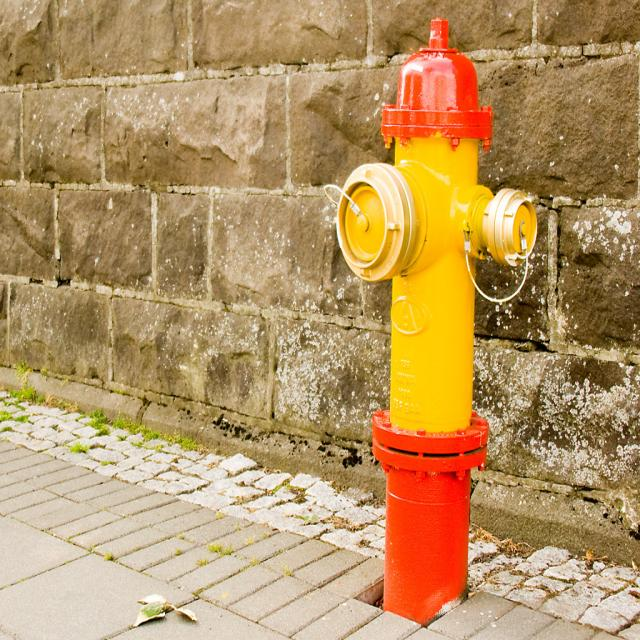fire_hydrant: (324, 17, 536, 628)
